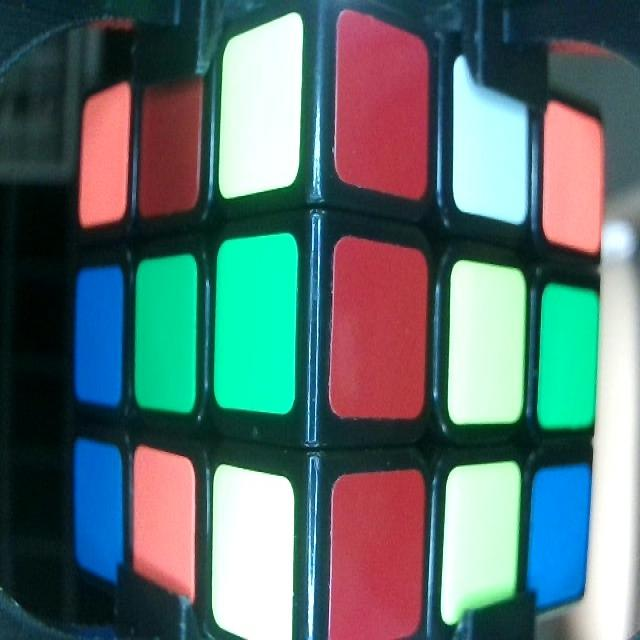b: (536, 475, 590, 592), (77, 445, 123, 567), (75, 279, 118, 392)
g: (218, 250, 292, 398), (136, 268, 195, 393), (545, 298, 592, 417)
o: (134, 470, 193, 591), (544, 119, 602, 242), (85, 112, 125, 210)
r: (337, 39, 427, 184), (335, 272, 424, 406), (333, 495, 420, 624), (142, 96, 195, 199)
w: (458, 86, 526, 202)
y: (215, 488, 292, 617), (450, 282, 522, 412), (222, 50, 296, 174), (447, 482, 514, 600)
